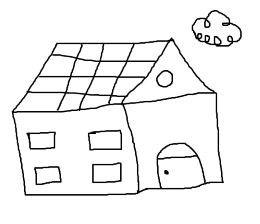clouds: (191, 9, 242, 48)
door: (153, 135, 206, 195)
open_window: (91, 161, 123, 184), (87, 130, 122, 150), (34, 166, 62, 185), (28, 132, 56, 149)
roof: (12, 37, 215, 112)
wall: (12, 99, 143, 196)
